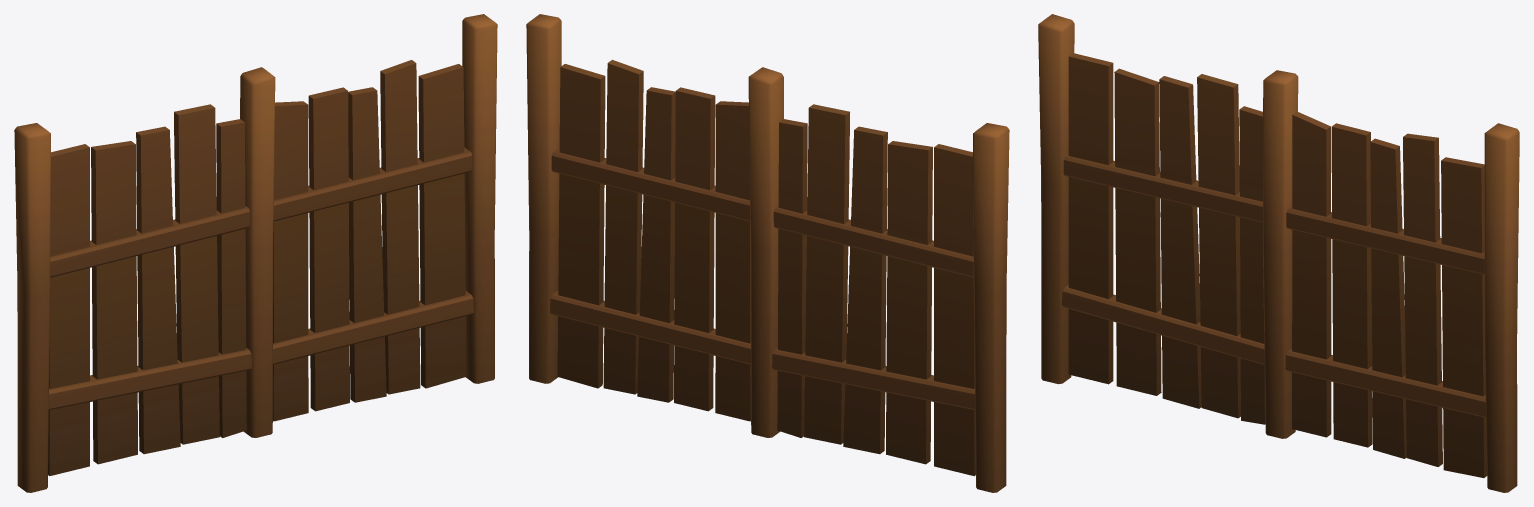
Rendered from WallFence_2_1_C.fbx.
3 views of the same model, side by side, from view 1: azimuth 30°, elevation 25°; view 2: azimuth 150°, elevation 25°; view 3: azimuth 330°, elevation 25° (orthographic).
Visible parts, largest first — view 1: WallFence_2_1_C; view 2: WallFence_2_1_C; view 3: WallFence_2_1_C.
Part boxes in pixels (box(x1,y1,x2,y2)): WallFence_2_1_C: box(14, 14, 497, 492); WallFence_2_1_C: box(526, 14, 1009, 492); WallFence_2_1_C: box(1038, 14, 1519, 492).
Bounding box in the file's own units: 210 × 152 × 11.27.
